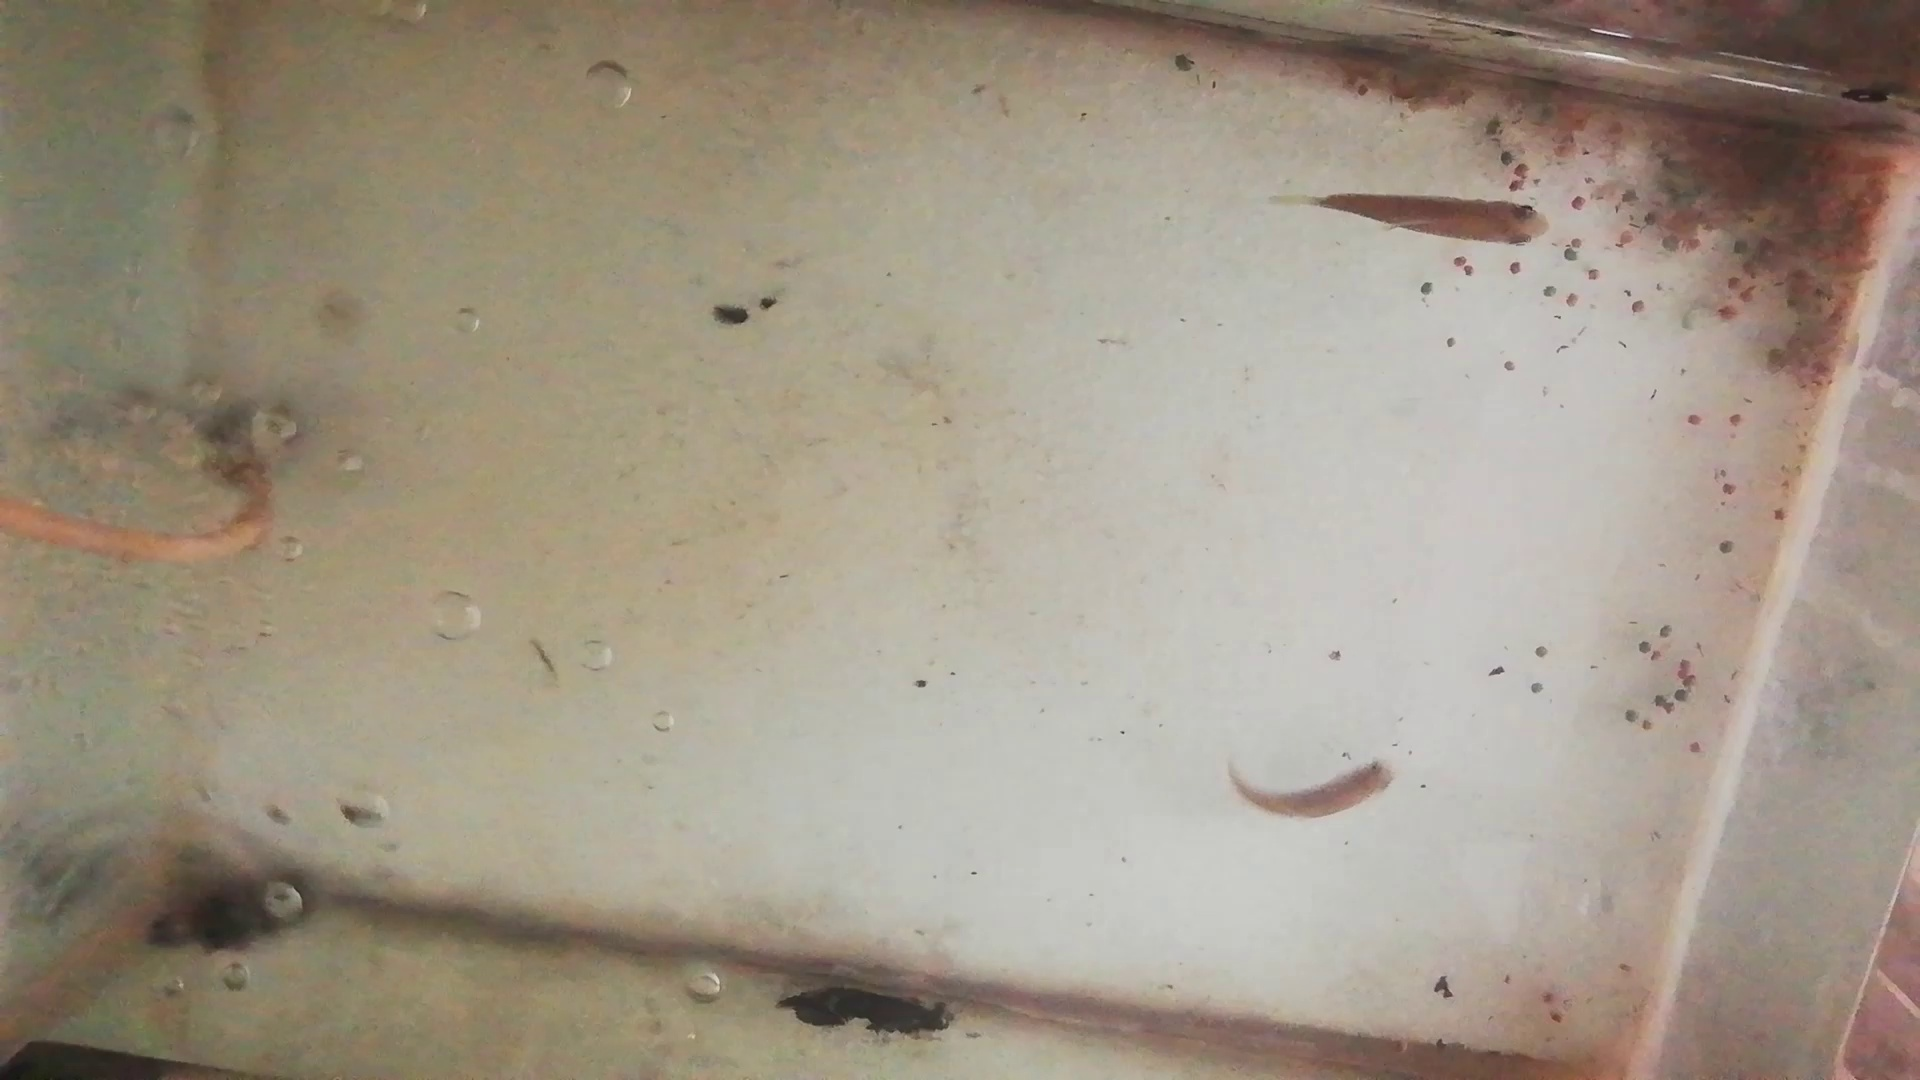fish: (1313, 189, 1548, 251), (1230, 758, 1404, 819)
